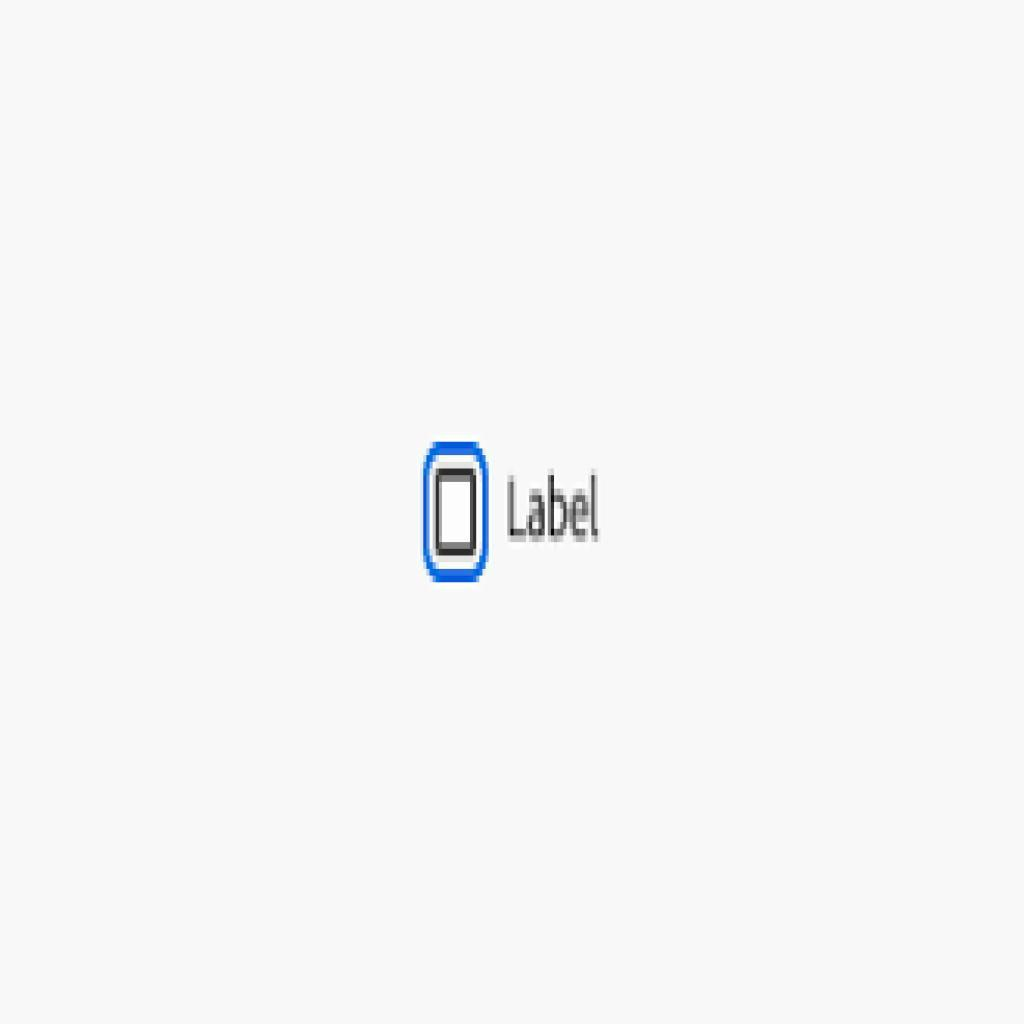checkbox: (422, 442, 494, 581)
